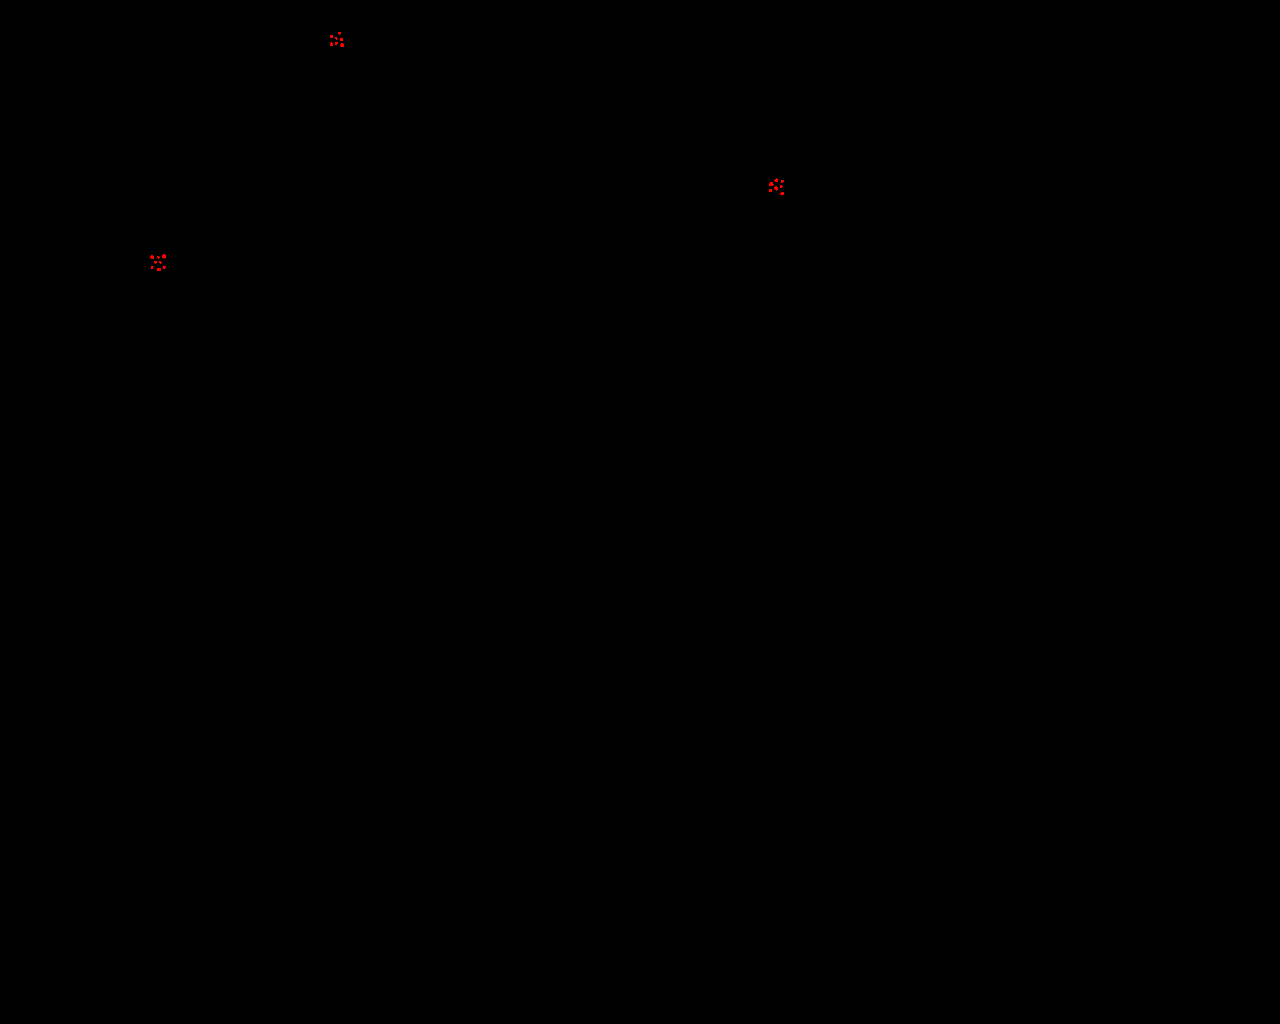Target: (769, 182, 774, 186), (774, 186, 778, 191), (162, 254, 166, 259), (340, 43, 344, 47), (774, 178, 778, 182), (330, 42, 333, 46), (779, 192, 784, 195), (150, 255, 154, 259), (157, 267, 161, 271), (330, 34, 333, 38), (340, 38, 343, 41), (781, 180, 784, 183), (779, 185, 783, 188), (769, 189, 772, 192), (157, 256, 160, 259), (154, 261, 157, 264), (159, 261, 162, 264), (338, 32, 341, 34), (335, 37, 338, 40), (335, 42, 338, 45), (163, 266, 166, 269), (152, 266, 154, 269)
